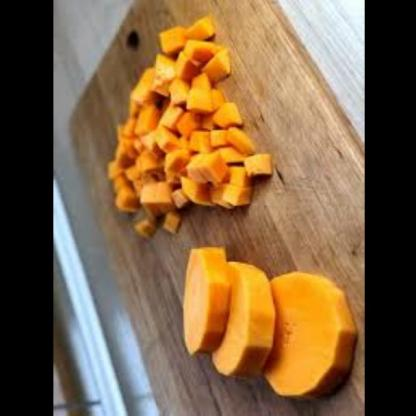pumpkin: (92, 20, 286, 239), (266, 273, 355, 402), (209, 258, 274, 380), (176, 242, 230, 357)
